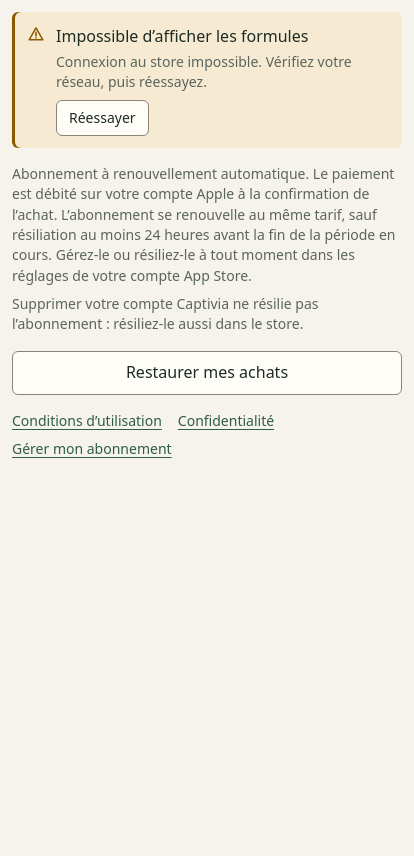
Test case: NativePaywall › offerings injoignables : message et nouvel essai ; restauration toujours proposée
This screenshot has width=414, height=856.
Check: the text "Impossible d’afficher les formules" is shown, box [56,25,308,47]
Check: the button "S’abonner" is not shown
Click the button "Réessayer" at [102, 118], box [56,100,149,136]
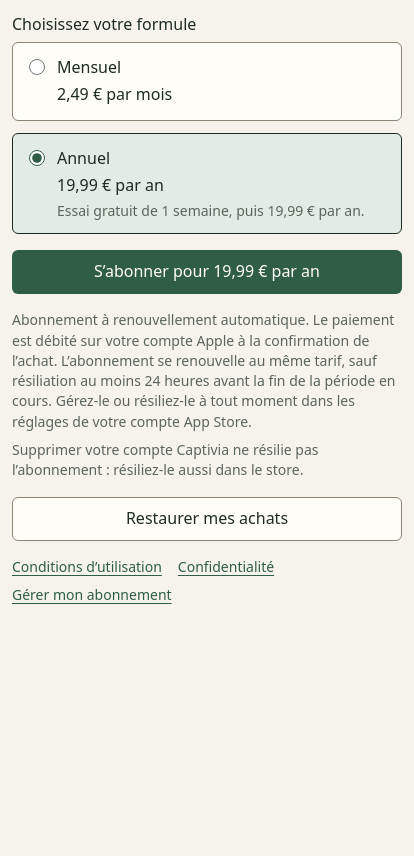
Check: the button "S’abonner pour 19,99 € par an" is shown, box [12,250,402,294]
